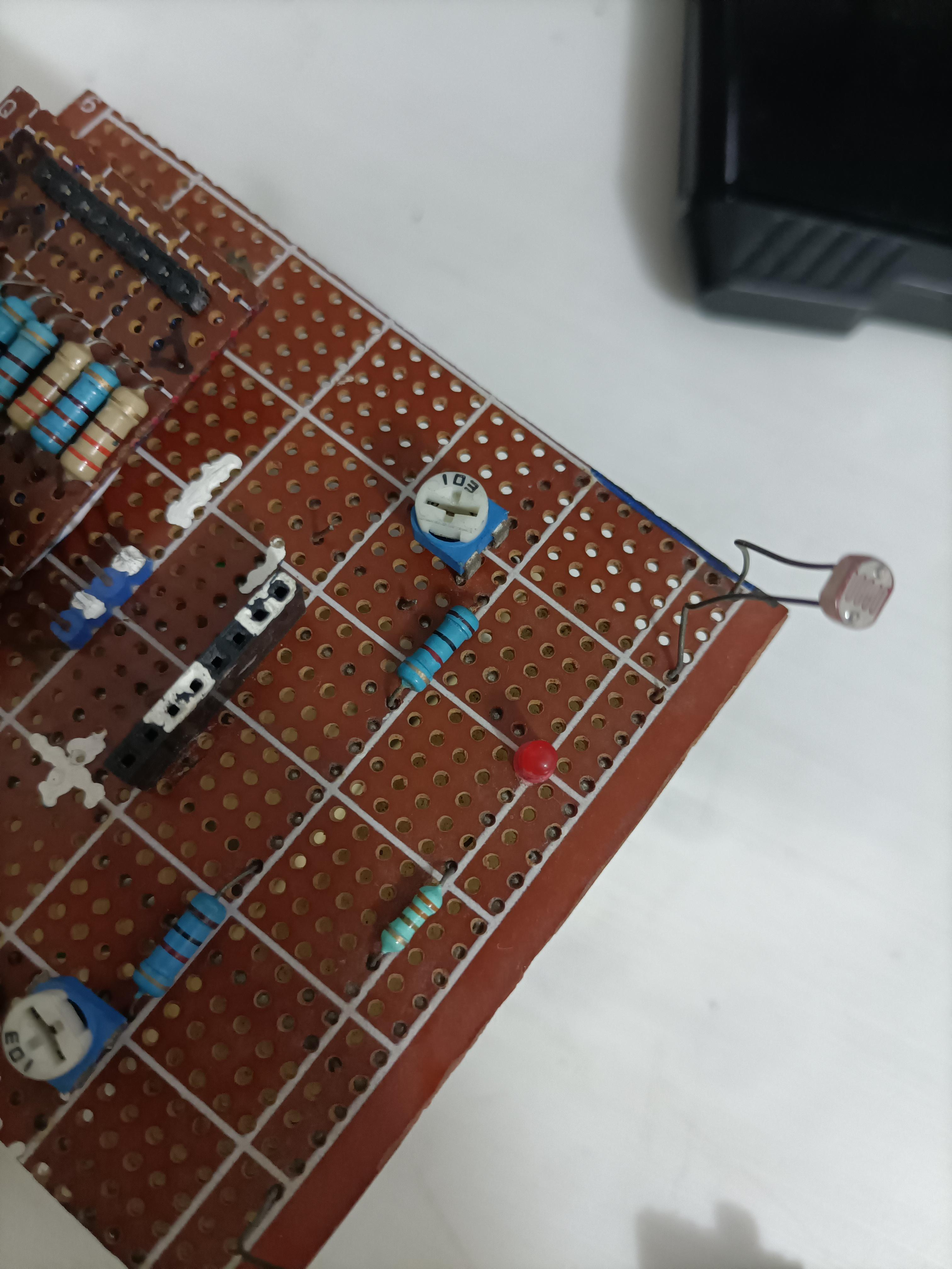LED: (503, 738, 565, 787)
Resistencia: (122, 962, 240, 1019), (340, 942, 457, 999), (370, 676, 487, 733)
